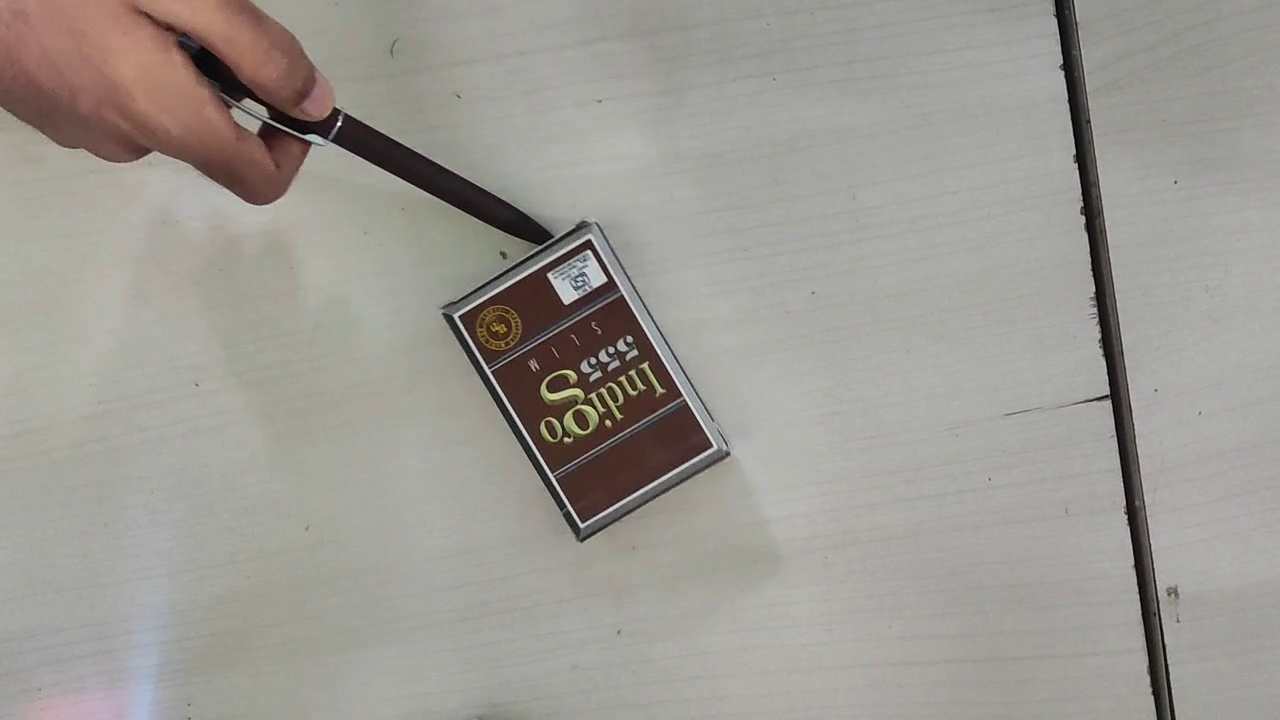BEX: (453, 234, 718, 526)
